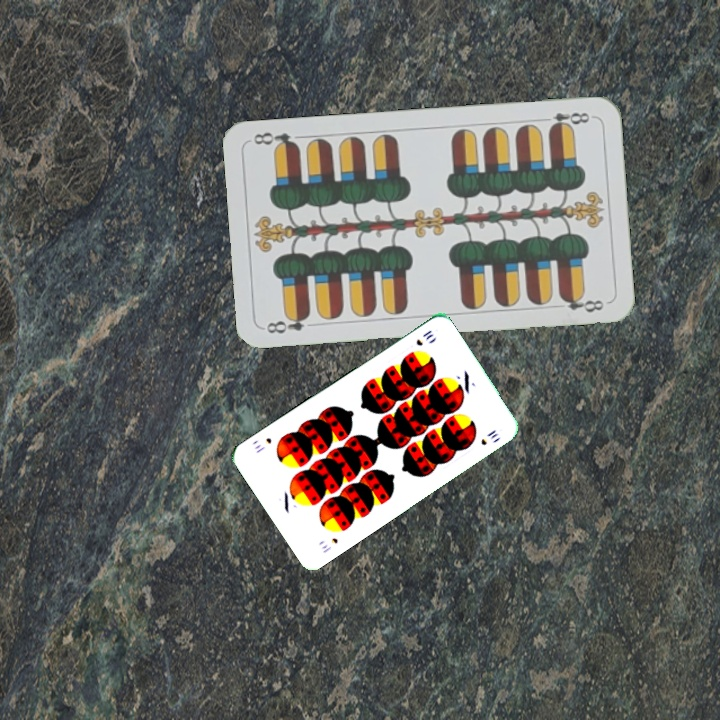E8: (536, 108, 592, 133), (263, 309, 313, 337)
S10: (412, 326, 436, 348), (317, 534, 340, 556)
